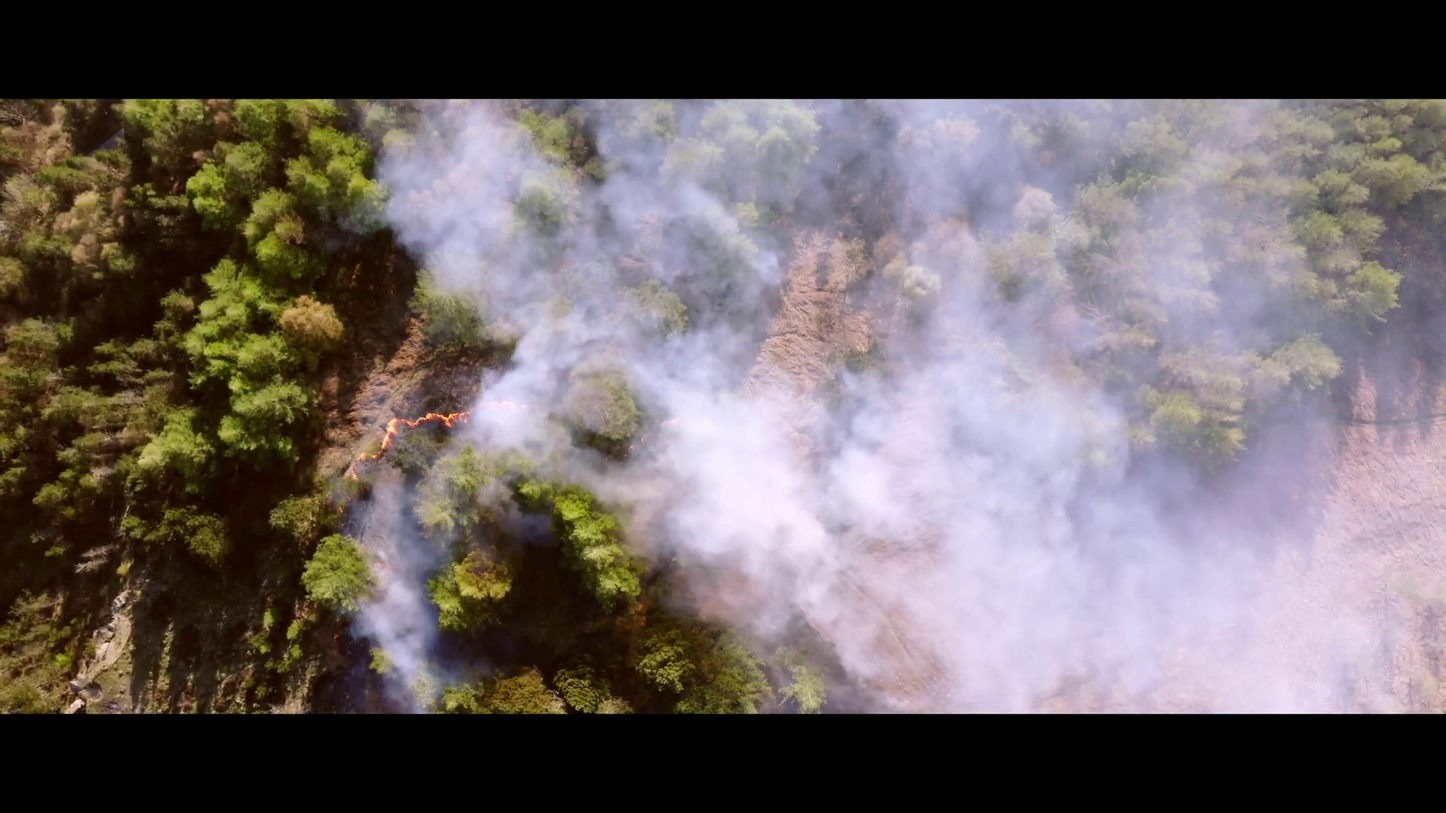forest_fire: (356, 410, 472, 461), (485, 402, 529, 410)
